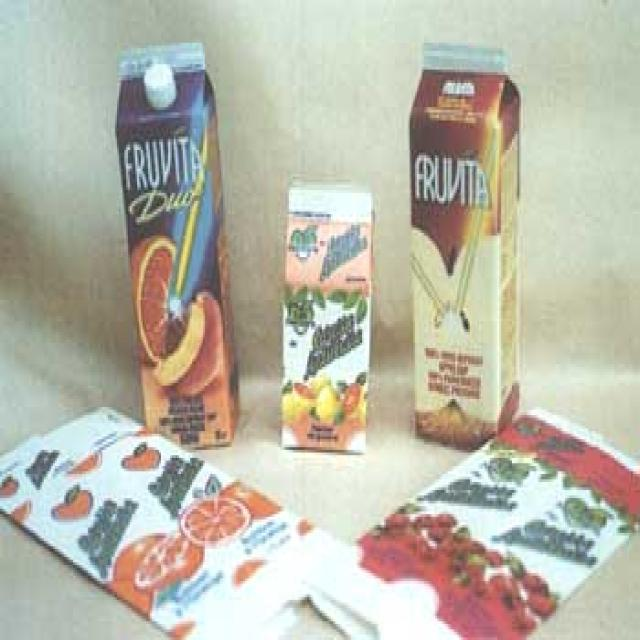Carton: (398, 17, 542, 448), (106, 41, 252, 449), (279, 161, 383, 485)
